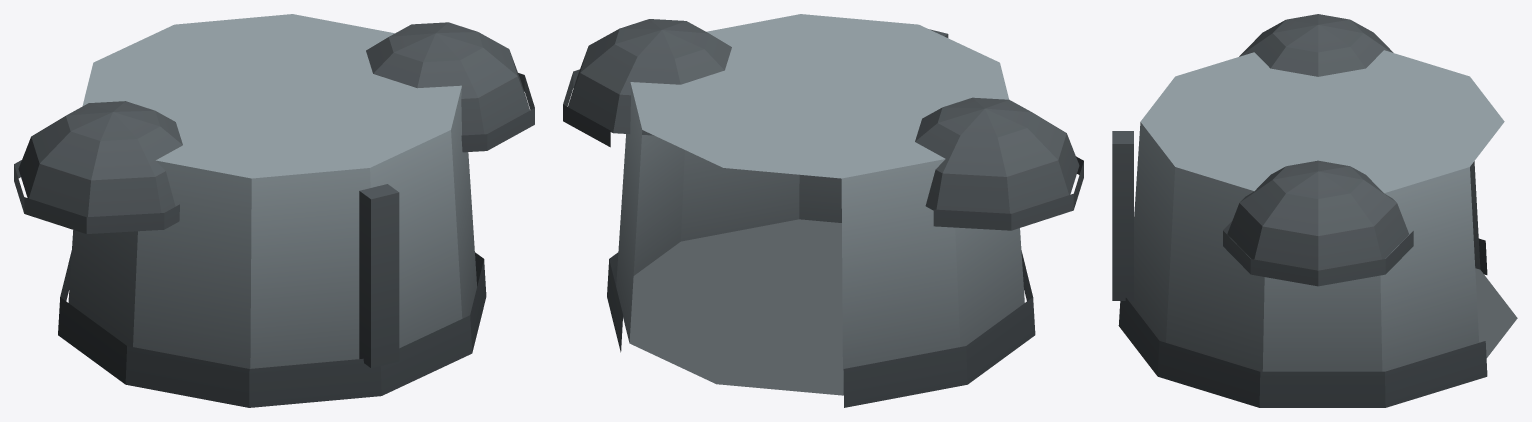
File: engineer_guard_chest_t1.glb
3 views of the same model, side by side, from view 1: azimuth 30°, elevation 25°; view 2: azimuth 150°, elevation 25°; view 3: azimuth 270°, elevation 25° (orthographic). The views are drawn at different scales.
Parts seen in each view (by area): view 1: engineer_guard_chest_t1__chest; view 2: engineer_guard_chest_t1__chest; view 3: engineer_guard_chest_t1__chest.
Boxes of the visible parts, x1=… form: engineer_guard_chest_t1__chest: x1=14, y1=14, x2=534, y2=407; engineer_guard_chest_t1__chest: x1=563, y1=14, x2=1083, y2=407; engineer_guard_chest_t1__chest: x1=1112, y1=14, x2=1517, y2=407.
Size of the model in its own units: 1.24 by 0.58 by 0.935.
1 material, 1 textured.
